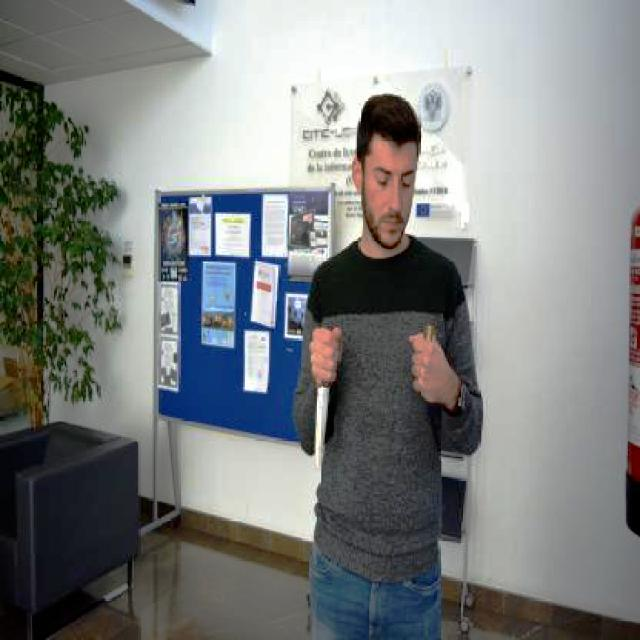Knife: (311, 352, 340, 503)
